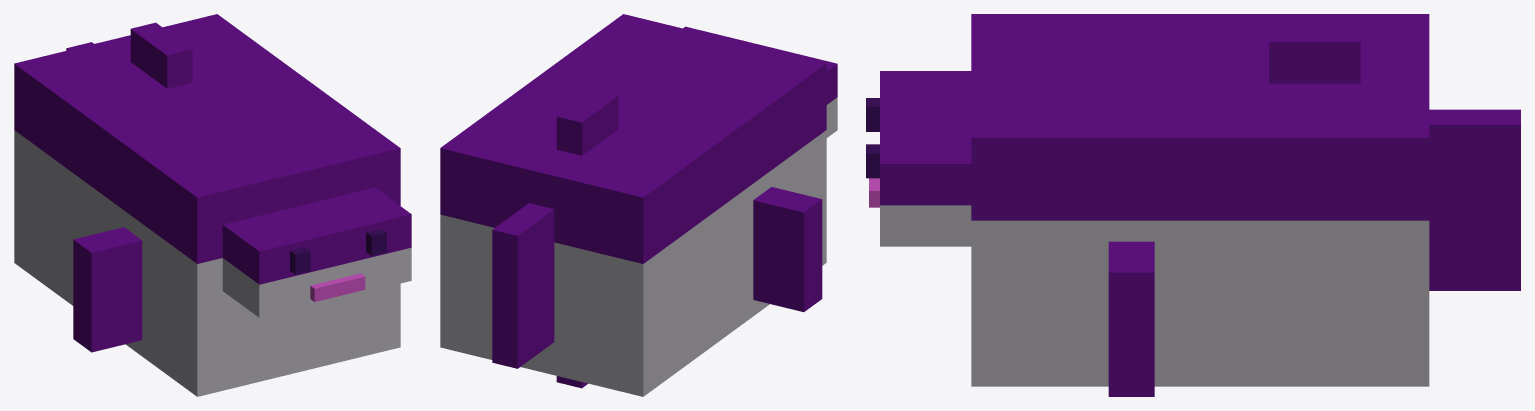
File: PoisonEater.fbx
3 views of the same model, side by side, from view 1: azimuth 30°, elevation 25°; view 2: azimuth 150°, elevation 25°; view 3: azimuth 270°, elevation 25° (orthographic). The views are drawn at different scales.
Visible parts, largest first — view 1: Cube.001, Cube.012, Cube.004, Cube.007, Cube.010, Cube.011; view 2: Cube.001, Cube.012, Cube.004; view 3: Cube.001, Cube.012, Cube.002.
Boxes of the visible parts, x1,y1,x2,y2 form: Cube.001: (14,14,411,284); Cube.012: (14,130,411,396); Cube.004: (73,227,142,352); Cube.007: (310,273,365,301); Cube.010: (366,228,386,255); Cube.011: (290,247,310,274); Cube.001: (440,14,837,368); Cube.012: (440,97,837,396); Cube.004: (753,187,822,311); Cube.001: (880,14,1520,290); Cube.012: (880,205,1429,386); Cube.002: (1108,241,1154,396).
Bounding box in the file's own units: 115 × 96 × 172.
